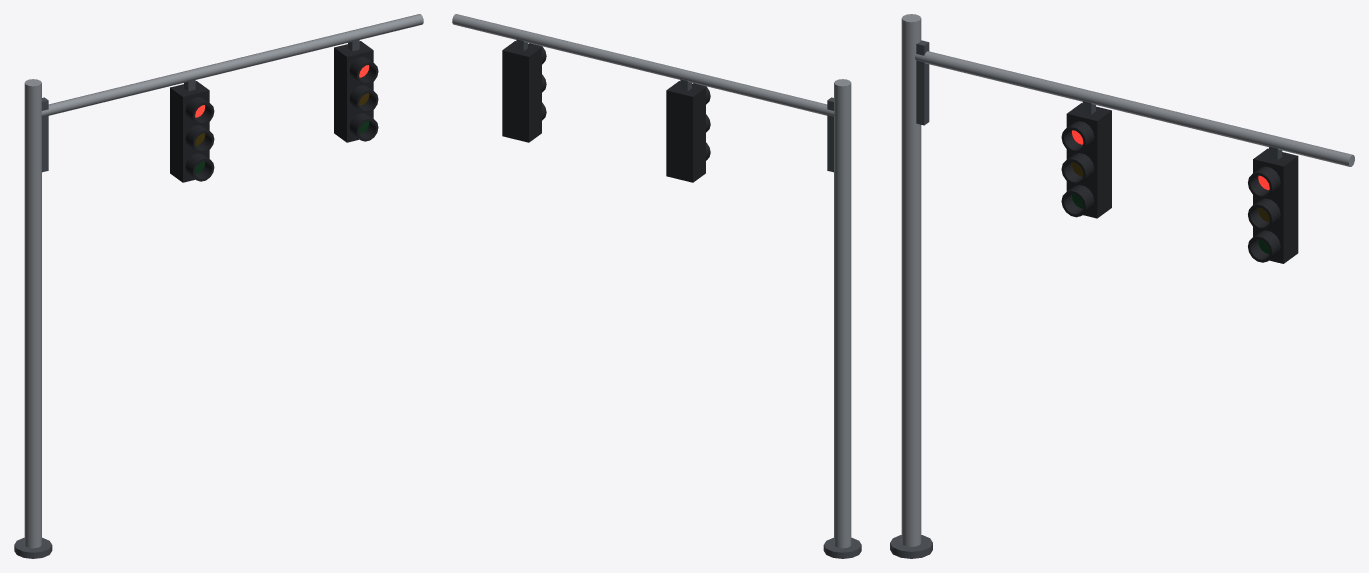
Rendered from semaforo-braco-vermelho.glb.
The picture shows the model from 3 angles, left to right: view 1: azimuth 30°, elevation 25°; view 2: azimuth 150°, elevation 25°; view 3: azimuth 330°, elevation 25°; orthographic projection. The views are drawn at different scales.
Parts seen in each view (by area): view 1: Poste, Braco, Caixas, Viseiras; view 2: Poste, Caixas, Braco; view 3: Poste, Braco, Caixas, Viseiras.
Boxes of the visible parts, x1,y1,x2,y2 form: Poste: (14, 79, 52, 558); Braco: (41, 14, 423, 172); Caixas: (170, 39, 373, 182); Viseiras: (185, 57, 378, 181); Poste: (823, 79, 861, 558); Caixas: (502, 39, 705, 182); Braco: (452, 14, 834, 172); Poste: (890, 14, 932, 558); Braco: (915, 40, 1354, 166); Caixas: (1066, 101, 1298, 263); Viseiras: (1061, 121, 1280, 262).
Bounding box in the file's own units: 5.42 × 6 × 0.54.
